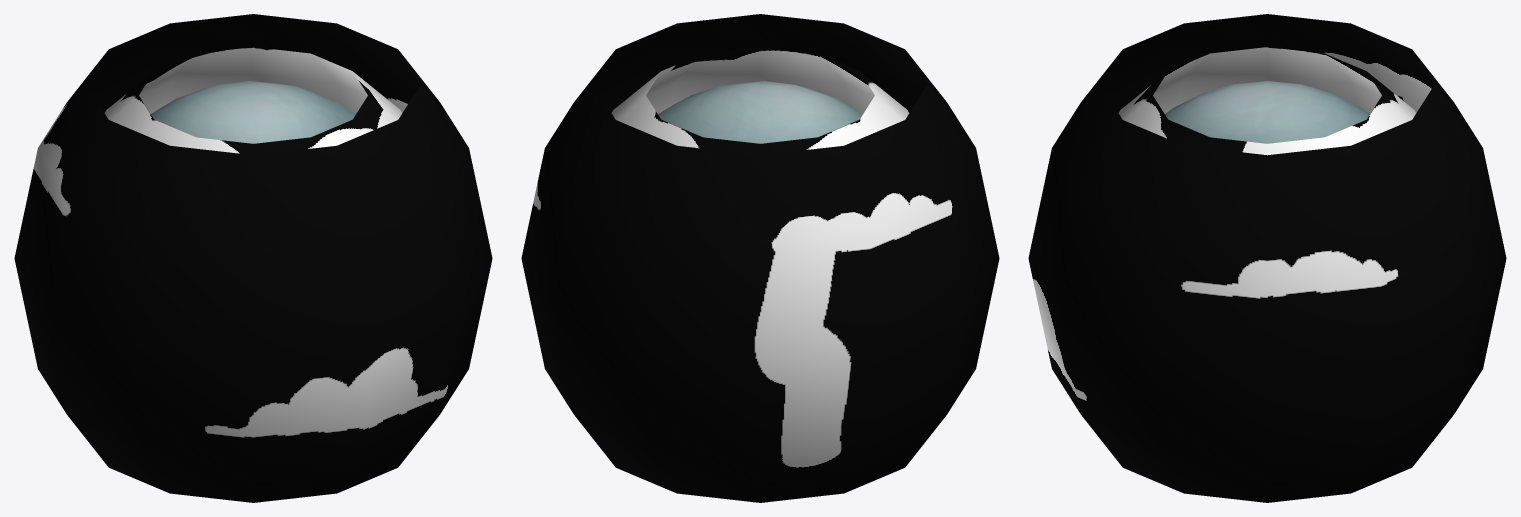
The model's file is roundPlanet.fbx.
3 views of the same model, side by side, from view 1: azimuth 30°, elevation 25°; view 2: azimuth 150°, elevation 25°; view 3: azimuth 270°, elevation 25° (orthographic).
Visible parts, largest first — view 1: RoundWorld; view 2: RoundWorld; view 3: RoundWorld.
Boxes of the visible parts, bbox=[...] form: RoundWorld: bbox=[14, 14, 492, 502]; RoundWorld: bbox=[521, 14, 999, 502]; RoundWorld: bbox=[1028, 14, 1506, 502].
Bounding box in the file's own units: 3.28 × 2.63 × 3.28.
